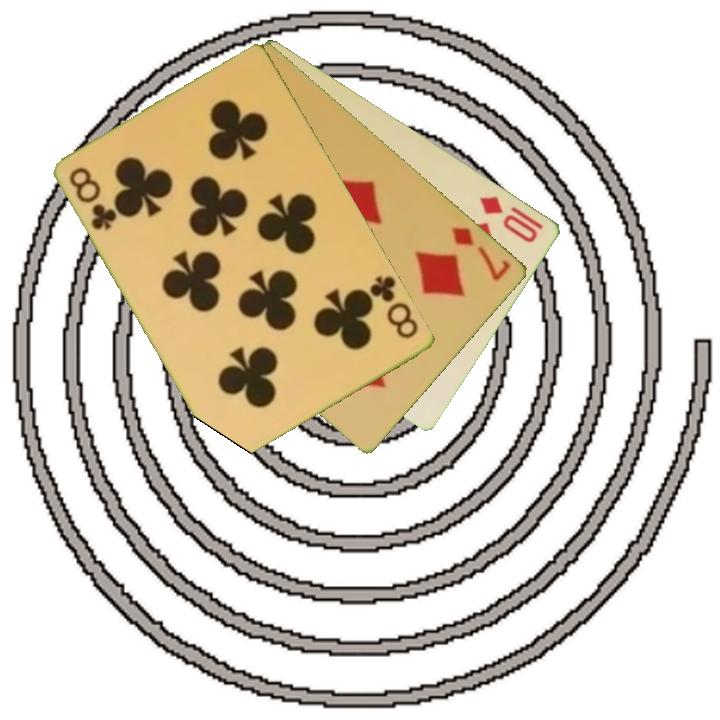10d: (476, 192, 542, 246)
7d: (448, 223, 515, 284)
8c: (362, 272, 422, 342), (66, 163, 121, 234)
